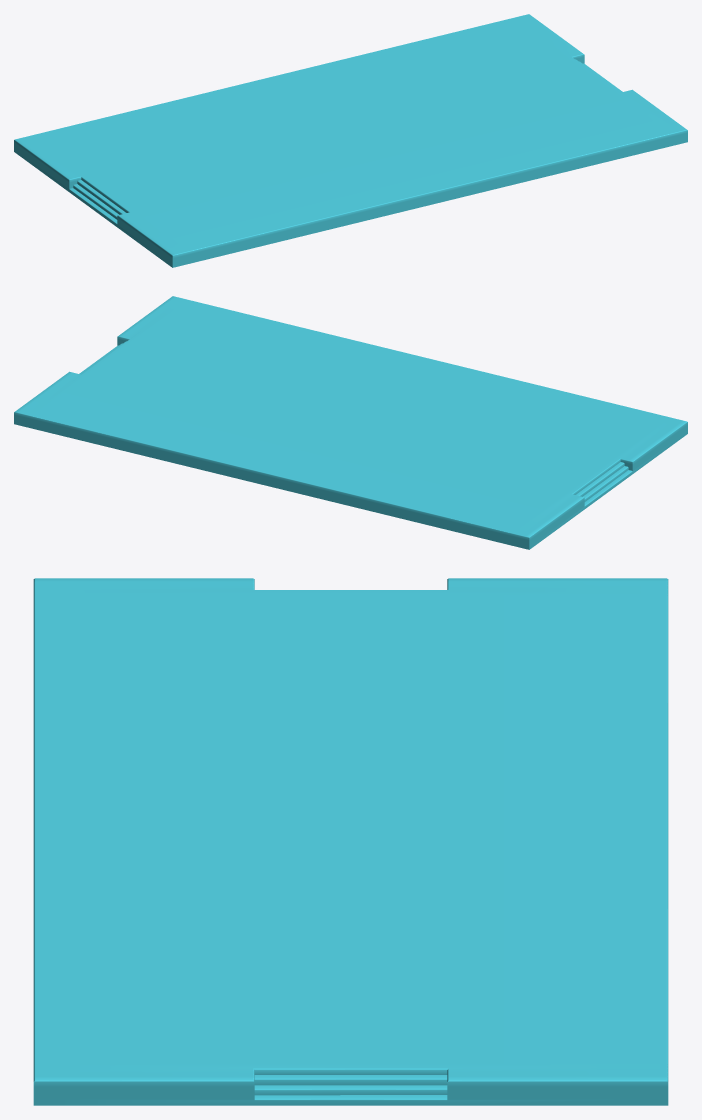
Rendered from LibraryFLOOR.fbx.
The picture shows the model from 3 angles, top to bottom: view 1: azimuth 30°, elevation 25°; view 2: azimuth 150°, elevation 25°; view 3: azimuth 270°, elevation 25°; orthographic projection. The views are drawn at different scales.
Parts seen in each view (by area): view 1: LibraryStand; view 2: LibraryStand; view 3: LibraryStand.
Boxes of the visible parts, left/top/right/bottom form: LibraryStand: left=14, top=14, right=687, bottom=267; LibraryStand: left=14, top=296, right=687, bottom=549; LibraryStand: left=33, top=578, right=668, bottom=1105.
Size of the model in its own units: 49.87 by 1.16 by 26.58.
